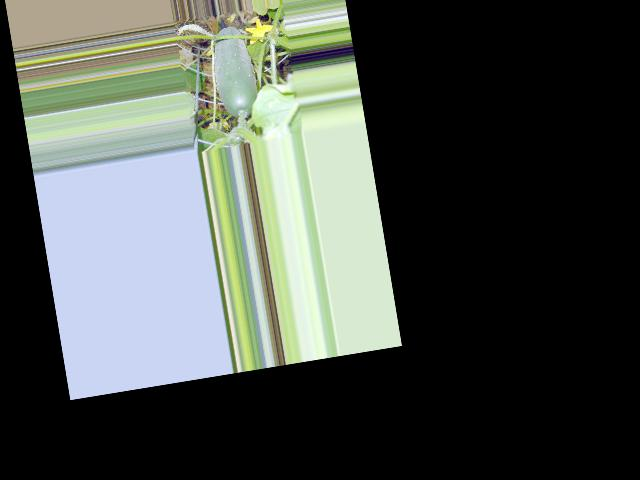cucumber: (206, 24, 261, 120)
